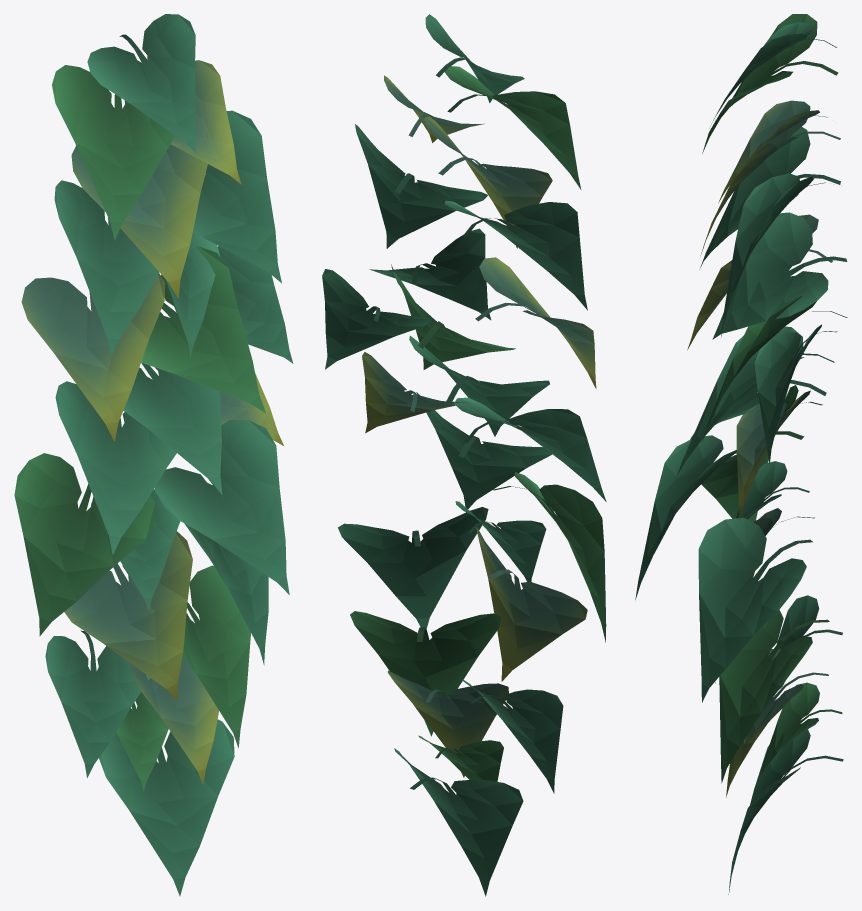
Rendered from Jungle_Ivy_B.fbx.
The picture shows the model from 3 angles, left to right: view 1: azimuth 30°, elevation 25°; view 2: azimuth 150°, elevation 25°; view 3: azimuth 270°, elevation 25°; orthographic projection. The views are drawn at different scales.
Parts seen in each view (by area): view 1: Jungle_Ivy_B; view 2: Jungle_Ivy_B; view 3: Jungle_Ivy_B.
Boxes of the visible parts, x1,y1,x2,y2 form: Jungle_Ivy_B: (14, 14, 293, 896); Jungle_Ivy_B: (322, 14, 606, 896); Jungle_Ivy_B: (635, 14, 847, 894).
Size of the model in its own units: 1.36 by 4.07 by 0.8956.
Materials: 1 (1 with a texture image).
